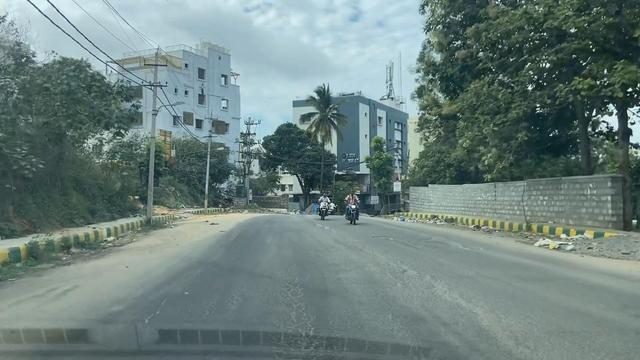RoadDamages: (379, 231, 476, 260)
